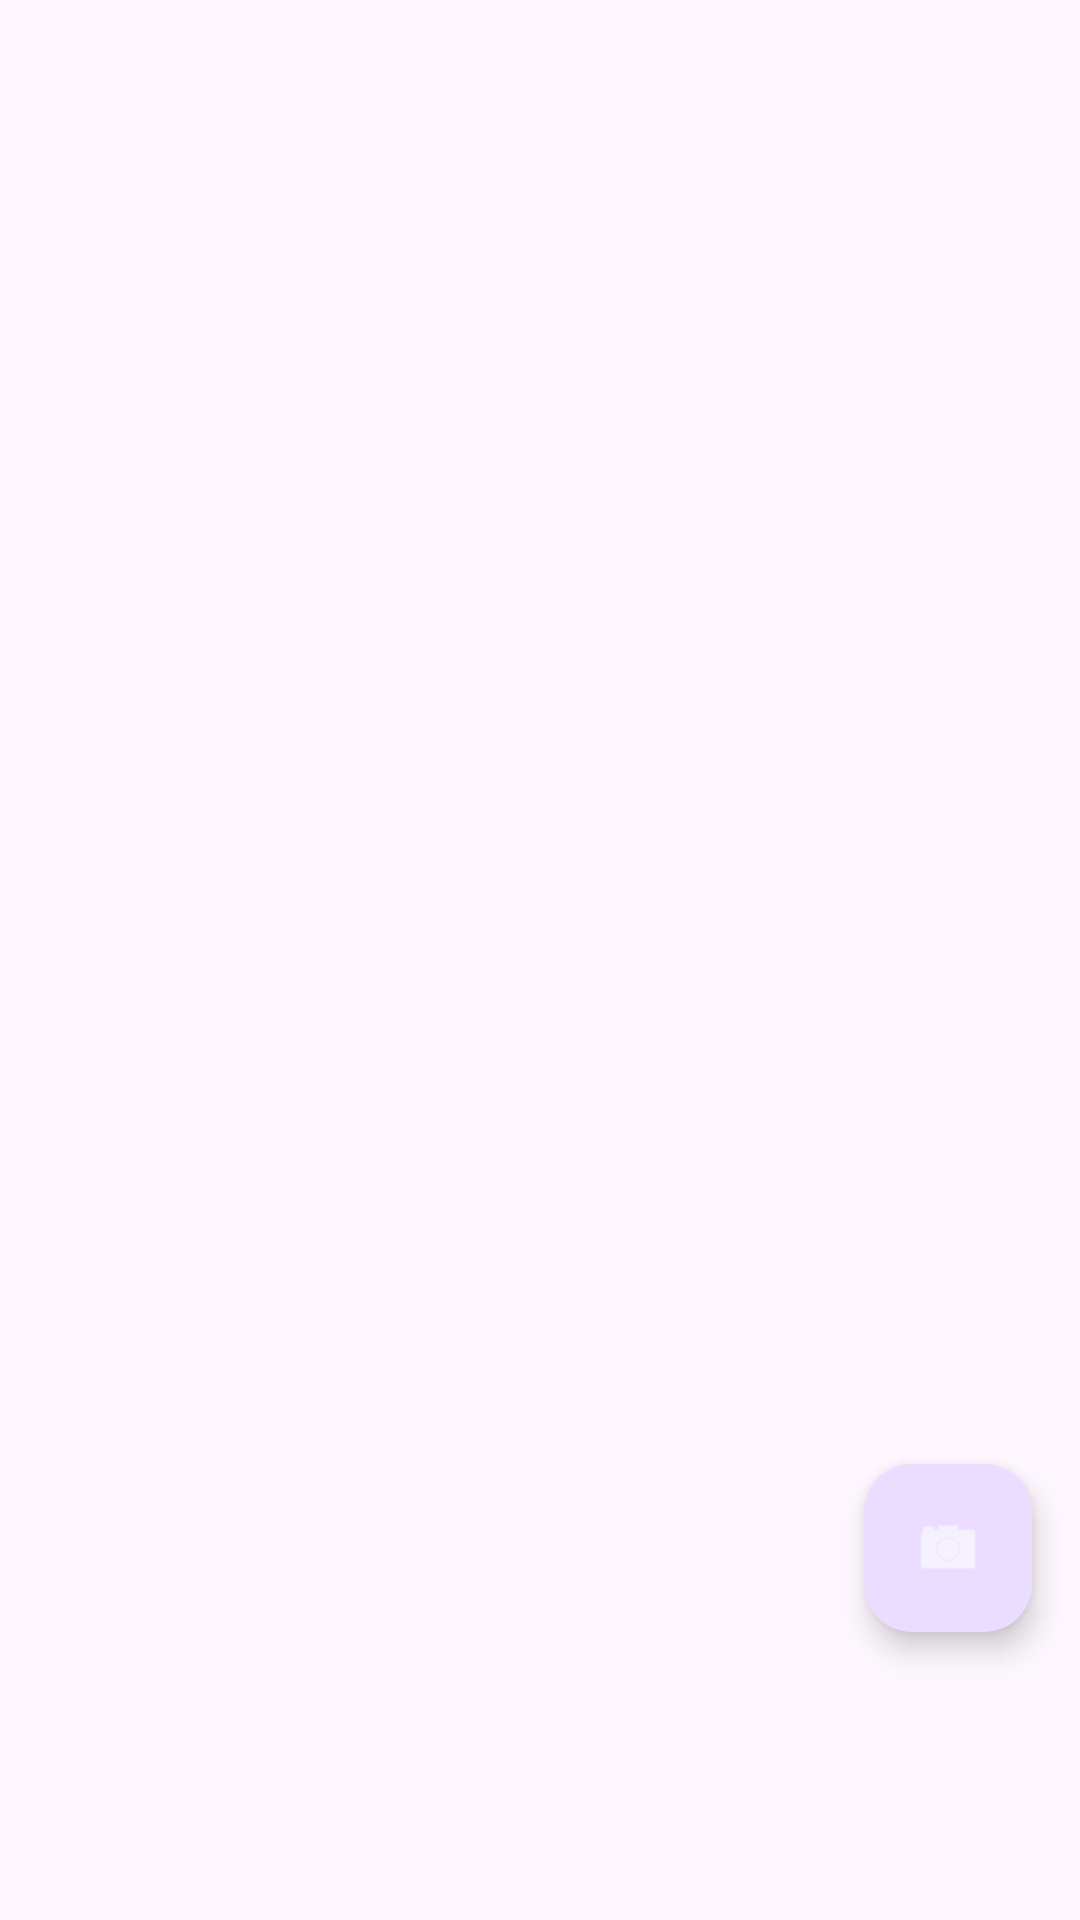

Screen size 1080 × 1920. Icon name, then its box in pixels as region(x1, y1, x2, y2):
camera: region(864, 1464, 1032, 1632)
